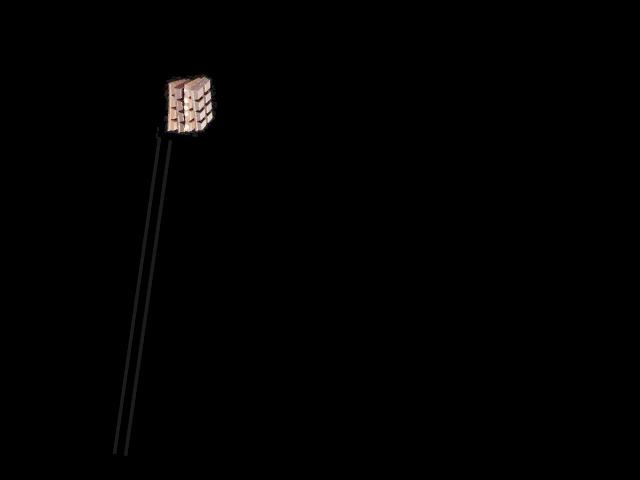chocolate: (160, 75, 217, 136)
